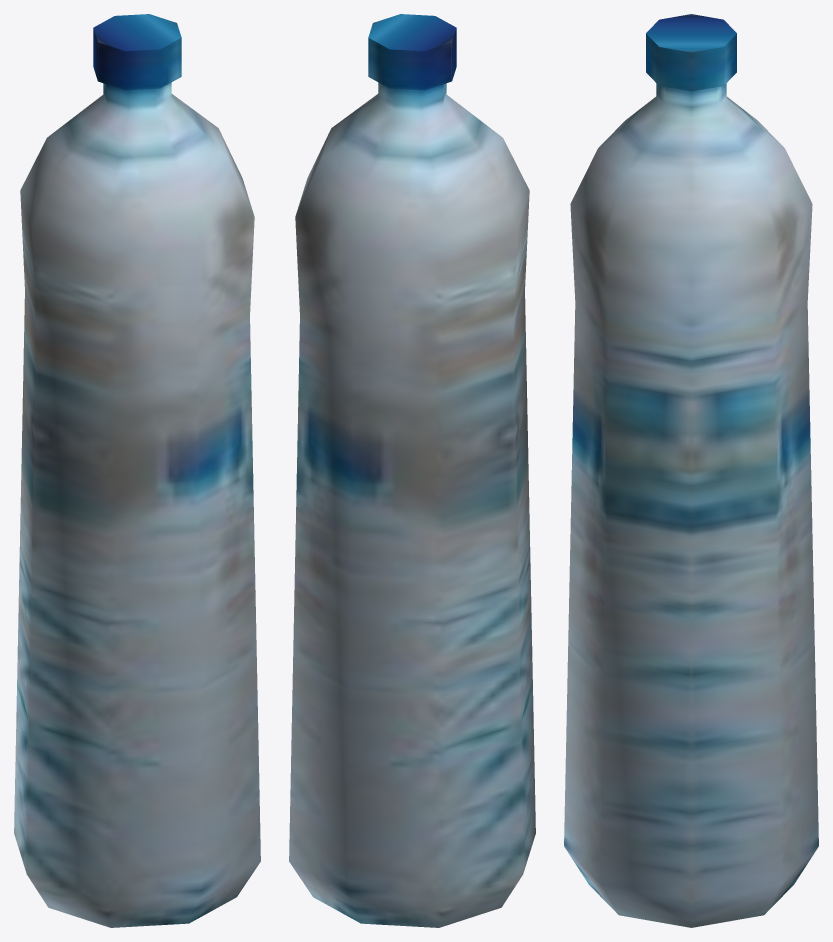
Rendered from Water_02-col.glb.
3 renders of one model, left to right at view 1: azimuth 30°, elevation 25°; view 2: azimuth 150°, elevation 25°; view 3: azimuth 270°, elevation 25°, orthographic.
Parts seen in each view (by area): view 1: Water_02-col; view 2: Water_02-col; view 3: Water_02-col.
Boxes of the visible parts, <box> form: Water_02-col: <box>14,14,260,927</box>; Water_02-col: <box>289,14,535,927</box>; Water_02-col: <box>564,14,818,927</box>.
Bounding box in the file's own units: 0.1003 × 0.3695 × 0.1003.
Materials: 1 (1 with a texture image).
